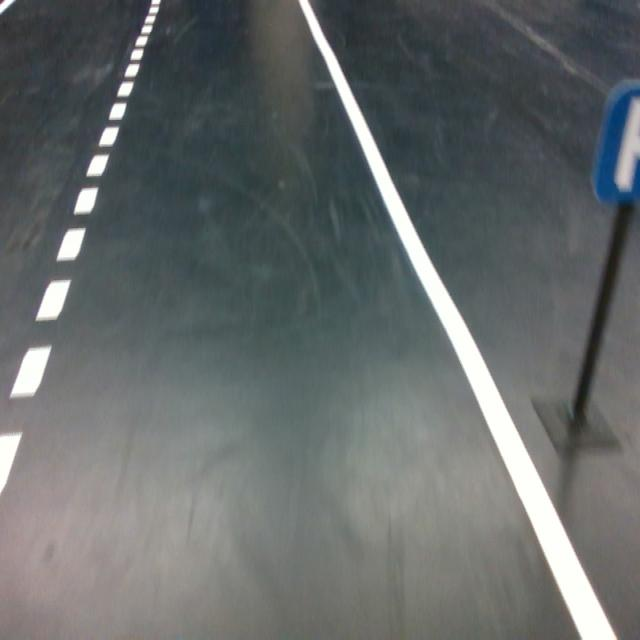parking-sign: (589, 78, 640, 205)
